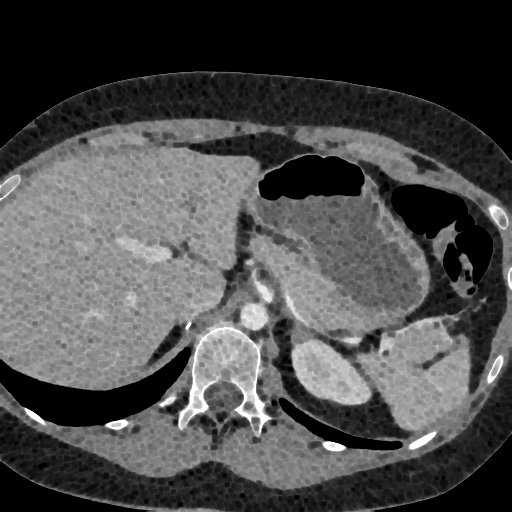Lesion: (284, 325, 314, 348)
